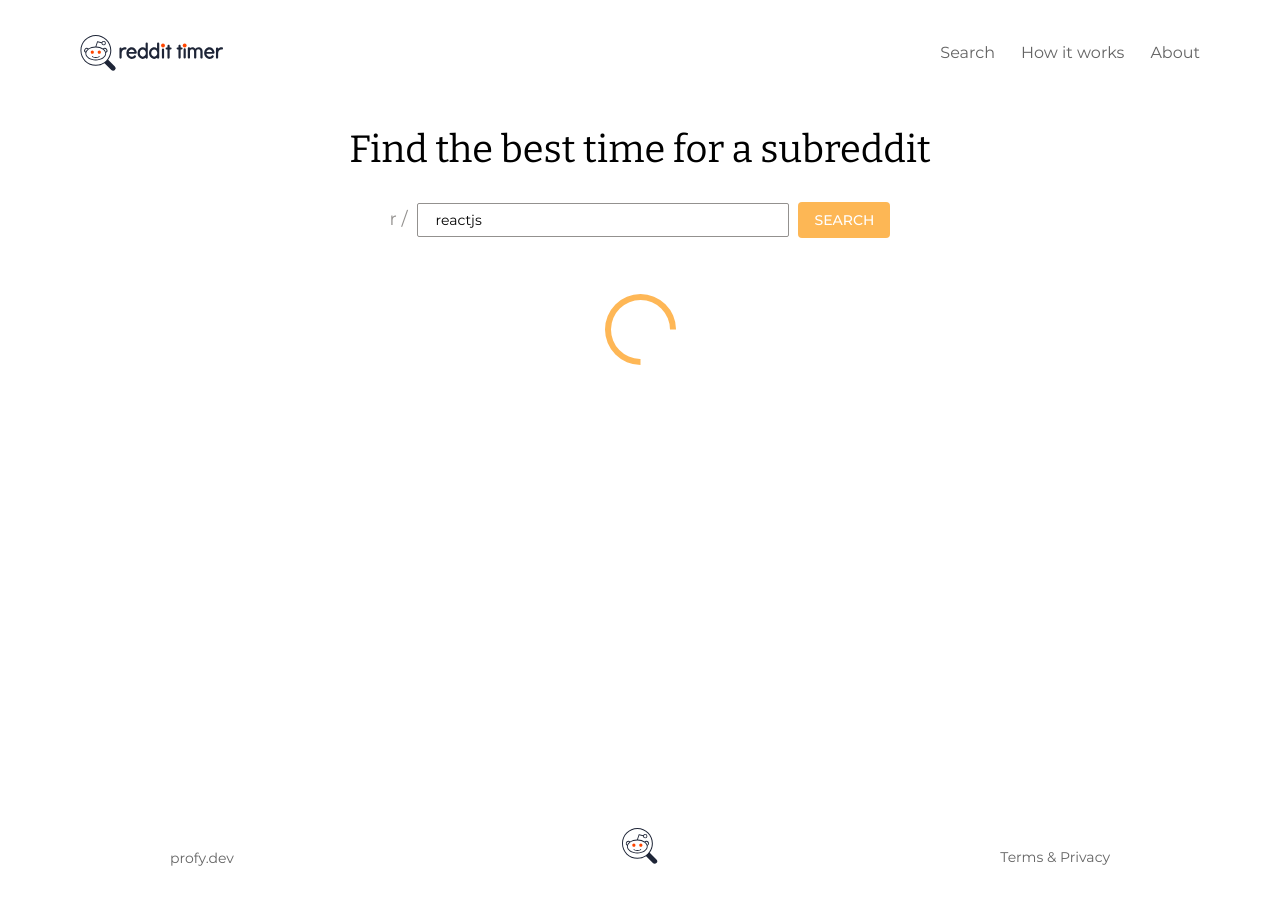
it: SubredditForm › Input value updates to "javascript" when header link is clicked
The width and height of the screenshot is (1280, 900).
Step 1. Click the link "Search" → (968, 52), box [940,43,995,62]
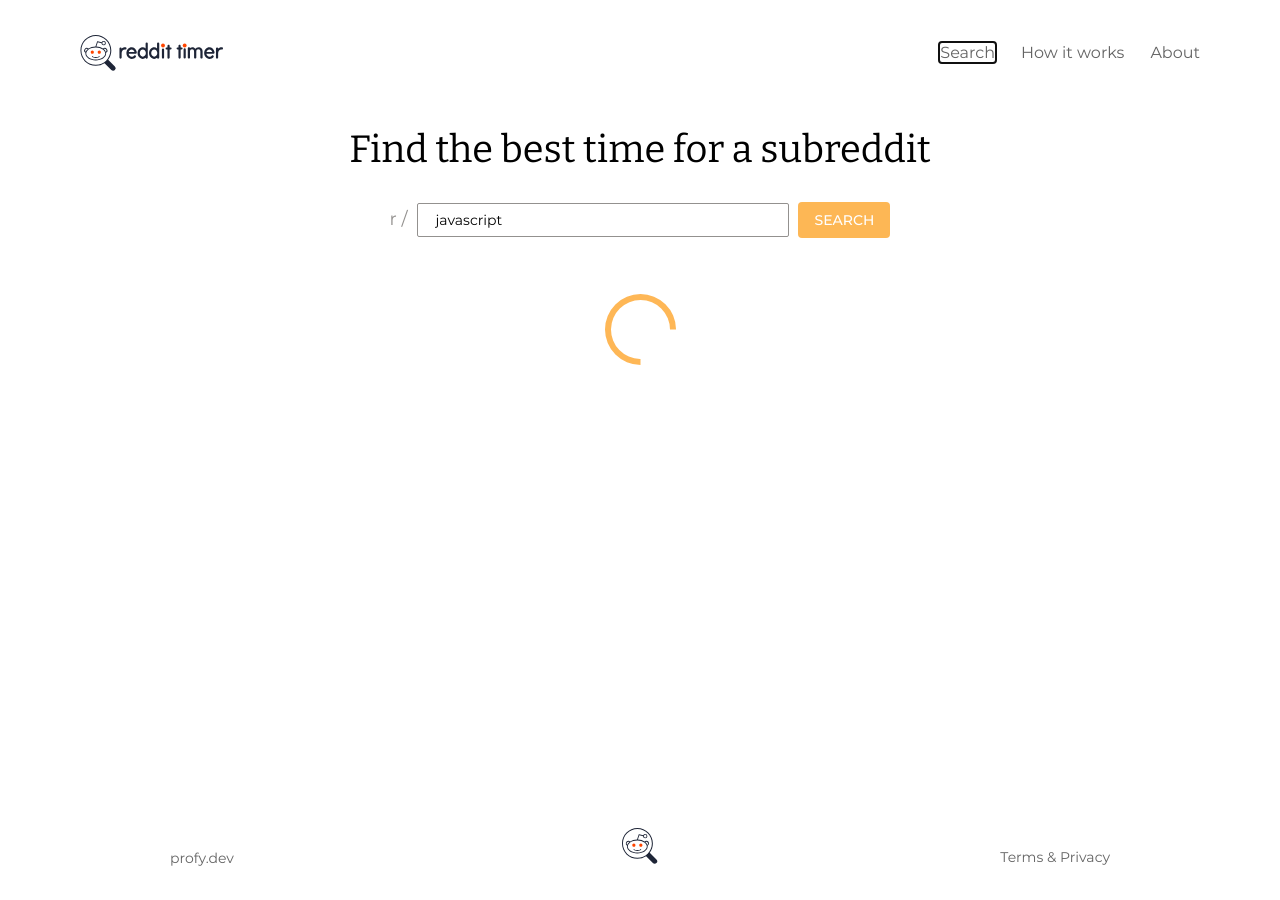
expect the field labelled "r /" holds "javascript": met, box [418,203,790,237]
